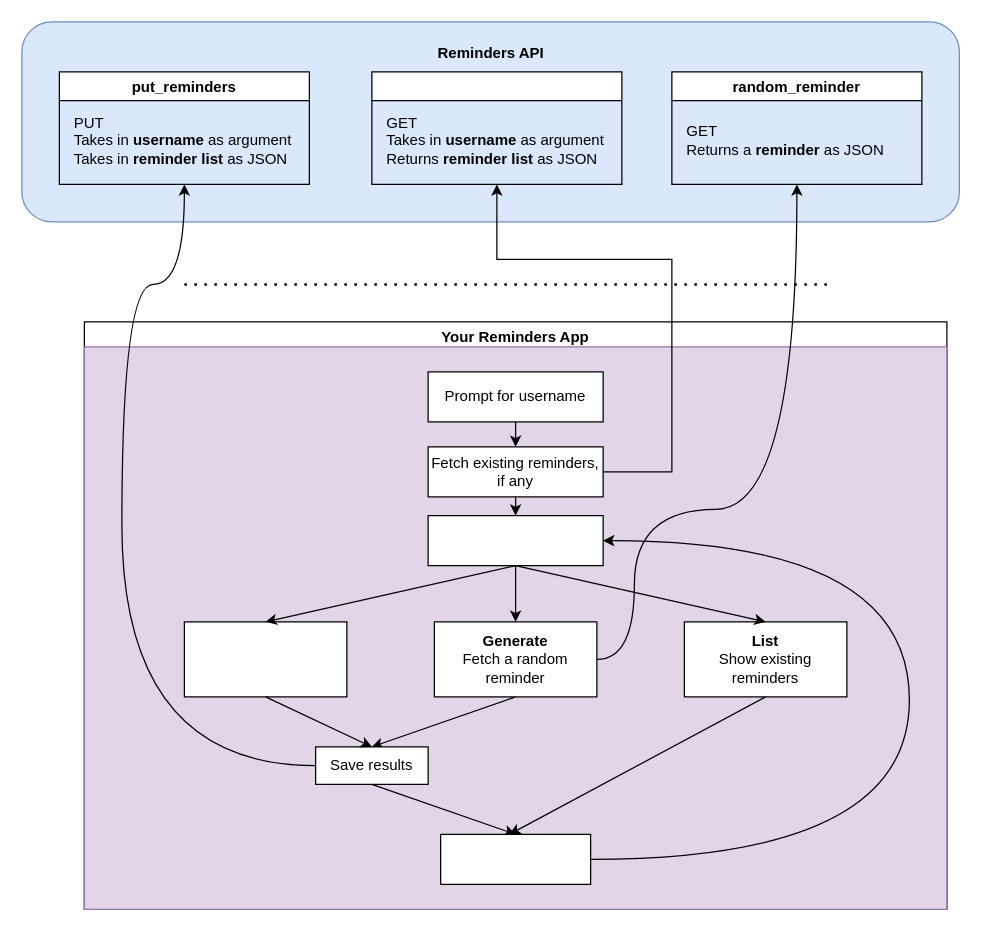
This 981x931 diagram has some shape labels left out. Here are the shapes that lost their labels. From the top down, the box of each, then its label:
(371, 71, 622, 184): get_reminders
(427, 514, 603, 566): Execute a command
(183, 621, 347, 697): Create Build a new reminder
(439, 833, 591, 884): Execute next command
